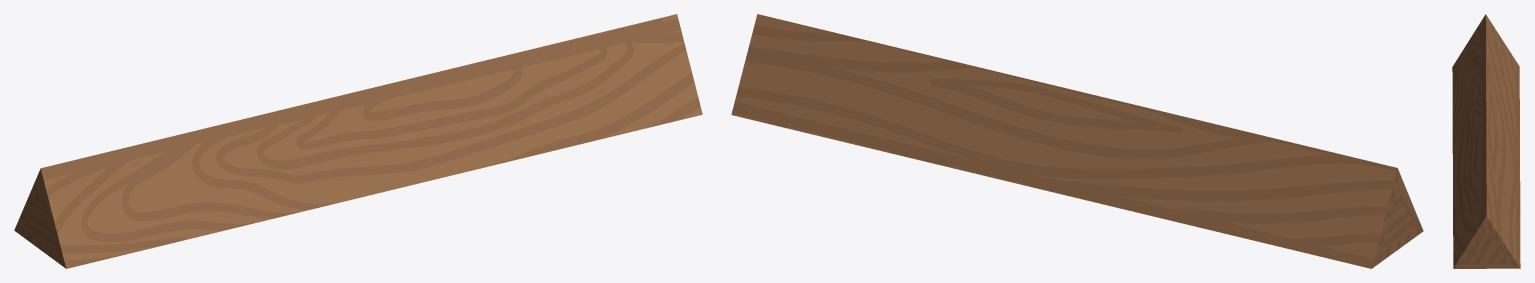
The model's file is FenceSingle.glb.
The picture shows the model from 3 angles, left to right: view 1: azimuth 30°, elevation 25°; view 2: azimuth 150°, elevation 25°; view 3: azimuth 270°, elevation 25°; orthographic projection. The views are drawn at different scales.
Parts seen in each view (by area): view 1: Cylinder.005; view 2: Cylinder.005; view 3: Cylinder.005.
Boxes of the visible parts, x1,y1,x2,y2 form: Cylinder.005: (14, 14, 702, 268); Cylinder.005: (731, 14, 1423, 268); Cylinder.005: (1452, 14, 1520, 268).
Bounding box in the file's own units: 4.3 × 0.5373 × 0.6141.
Materials: 1 (1 with a texture image).
